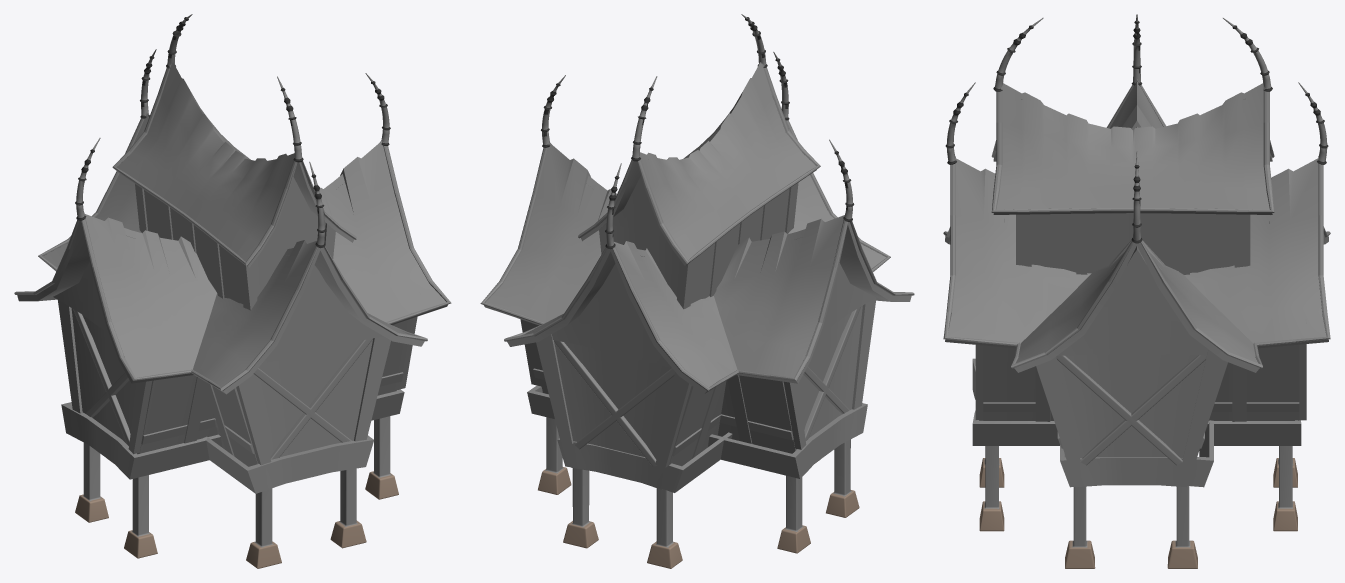
Rendered from SM_Rangkiang.fbx.
3 views of the same model, side by side, from view 1: azimuth 30°, elevation 25°; view 2: azimuth 150°, elevation 25°; view 3: azimuth 270°, elevation 25° (orthographic). The views are drawn at different scales.
Parts seen in each view (by area): view 1: Cube.078, Cube.072, Cube.073, Cube.075, Cube.079, Cube.075_Plate.004, Cube.076, Cube.074, Cube.075_Plate.001, QBlock.081, QBlock.086, Cube.075_Plate.002 (+16 smaller); view 2: Cube.078, Cube.072, Cube.073, Cube.075, Cube.079, Cube.076, Cube.075_Plate.004, Cube.074, Cube.075_Plate.001, QBlock.082, Cube.075_Plate.002, QBlock.086 (+17 smaller); view 3: Cube.073, Cube.072, Cube.079, Cube.078, Cube.074, Cube.080, Cube.075, Cube.075_Plate.001, Cube.075_Plate.004, Cube.075_Plate.005, QBlock.087, QBlock.088 (+13 smaller).
Part boxes in pixels (<box>): Cube.078: <box>17,141,447,383</box>; Cube.072: <box>117,62,353,267</box>; Cube.073: <box>42,114,424,394</box>; Cube.075: <box>212,339,372,466</box>; Cube.079: <box>71,308,412,454</box>; Cube.075_Plate.004: <box>61,389,404,479</box>; Cube.076: <box>261,265,383,364</box>; Cube.074: <box>144,190,325,303</box>; Cube.075_Plate.001: <box>203,435,373,493</box>; QBlock.081: <box>246,468,366,568</box>; QBlock.086: <box>75,442,157,558</box>; Cube.075_Plate.002: <box>236,336,390,465</box>; Cube.078: <box>484,142,911,383</box>; Cube.072: <box>581,62,816,266</box>; Cube.073: <box>507,129,886,393</box>; Cube.075: <box>554,342,726,489</box>; Cube.079: <box>525,305,862,453</box>; Cube.076: <box>552,263,671,368</box>; Cube.075_Plate.004: <box>527,385,867,478</box>; Cube.074: <box>613,188,789,303</box>; Cube.075_Plate.001: <box>557,432,732,492</box>; QBlock.082: <box>563,468,682,568</box>; Cube.075_Plate.002: <box>533,331,691,467</box>; QBlock.086: <box>777,439,859,553</box>; Cube.073: <box>945,158,1328,348</box>; Cube.072: <box>993,83,1272,214</box>; Cube.079: <box>1036,354,1227,487</box>; Cube.078: <box>1014,82,1259,372</box>; Cube.074: <box>1031,213,1234,273</box>; Cube.080: <box>1057,250,1208,355</box>; Cube.075: <box>983,344,1299,420</box>; Cube.075_Plate.001: <box>972,358,1301,445</box>; Cube.075_Plate.004: <box>1060,420,1213,487</box>; Cube.075_Plate.005: <box>1034,349,1226,462</box>; QBlock.087: <box>1065,486,1197,568</box>; QBlock.088: <box>1056,355,1206,465</box>.
Bounding box in the file's own units: 1581 × 2177 × 1581.
